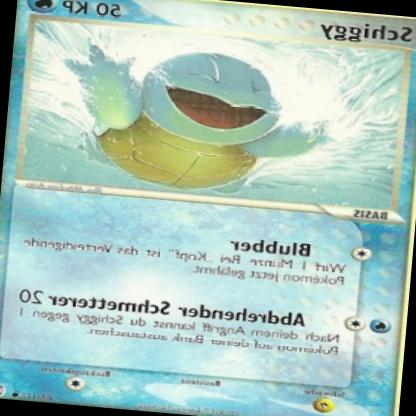Squirtle: (54, 34, 334, 200)
